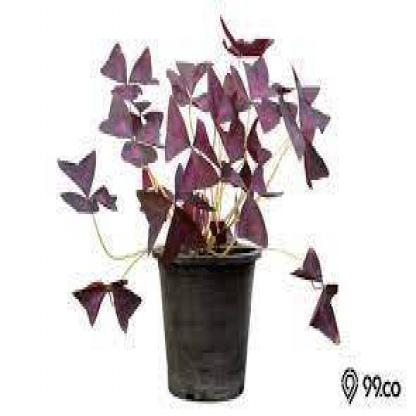Kupu-Kupu: (166, 55, 260, 125), (289, 57, 334, 186), (68, 266, 147, 339), (288, 259, 347, 344), (64, 150, 114, 228), (101, 37, 156, 96)
